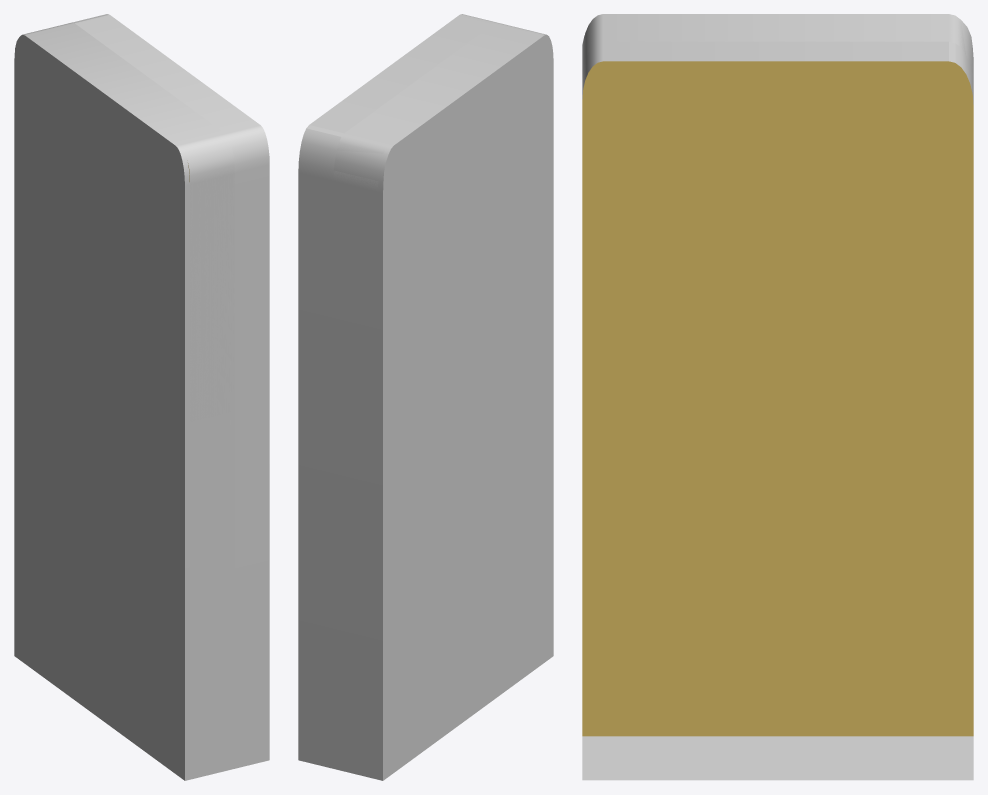
File: BgBox.fbx
3 renders of one model, left to right at view 1: azimuth 30°, elevation 25°; view 2: azimuth 150°, elevation 25°; view 3: azimuth 270°, elevation 25°, orthographic. The views are drawn at different scales.
Parts seen in each view (by area): view 1: Cube.013; view 2: Cube.013; view 3: Cube.013.
Boxes of the visible parts, left/top/right/bottom form: Cube.013: left=14, top=14, right=269, bottom=780; Cube.013: left=298, top=14, right=553, bottom=780; Cube.013: left=582, top=14, right=973, bottom=780.
Size of the model in its own units: 2.39 by 16.92 by 8.34.
